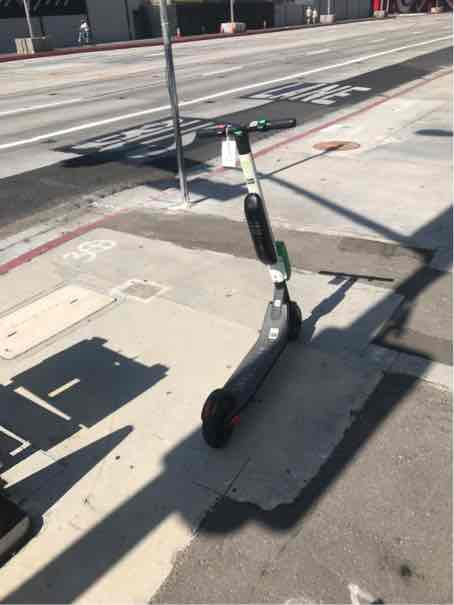scooter: (181, 94, 329, 449)
